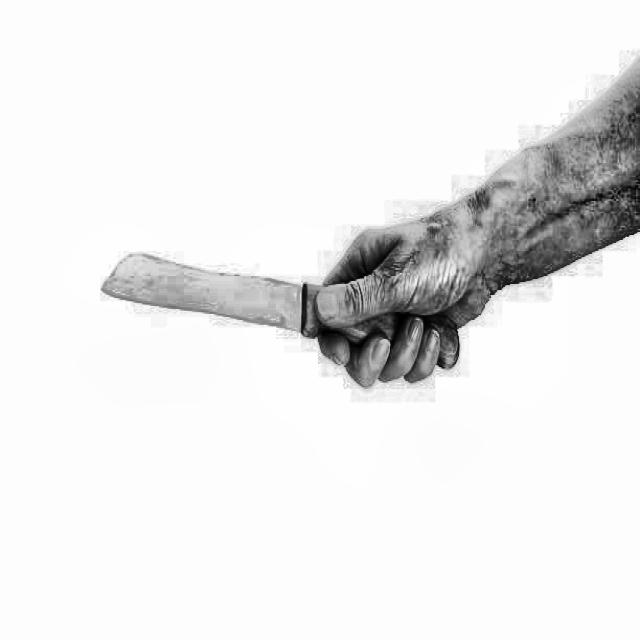pisau: (82, 222, 475, 397)
